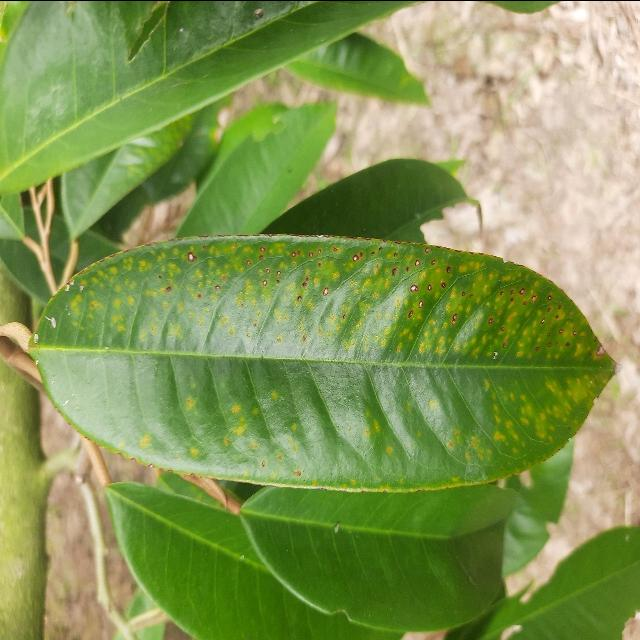Leaf Spot: (21, 217, 635, 499)
